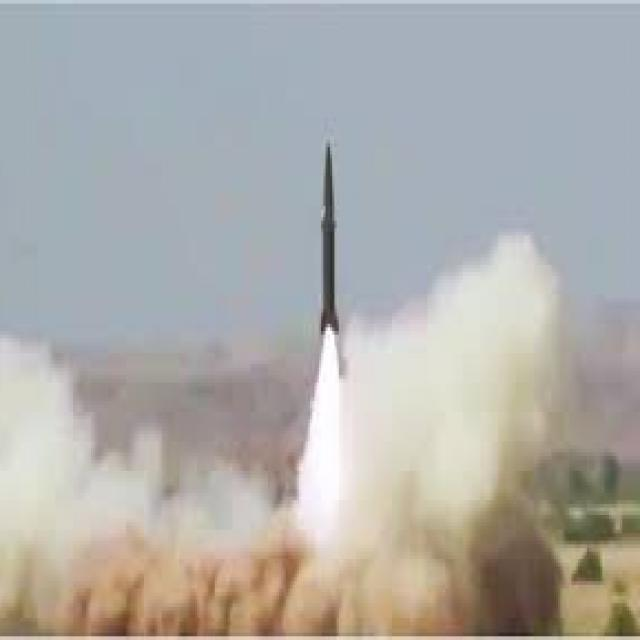missile: (313, 143, 347, 335)
